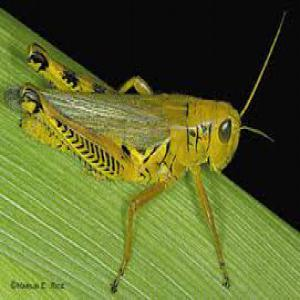locust: (1, 64, 270, 182)
